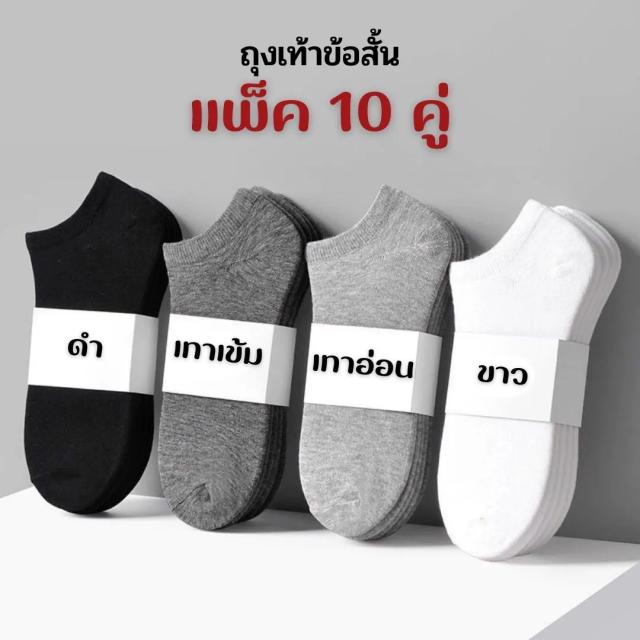sock: (436, 198, 622, 561), (298, 183, 470, 541), (156, 185, 322, 531), (23, 170, 183, 514)
